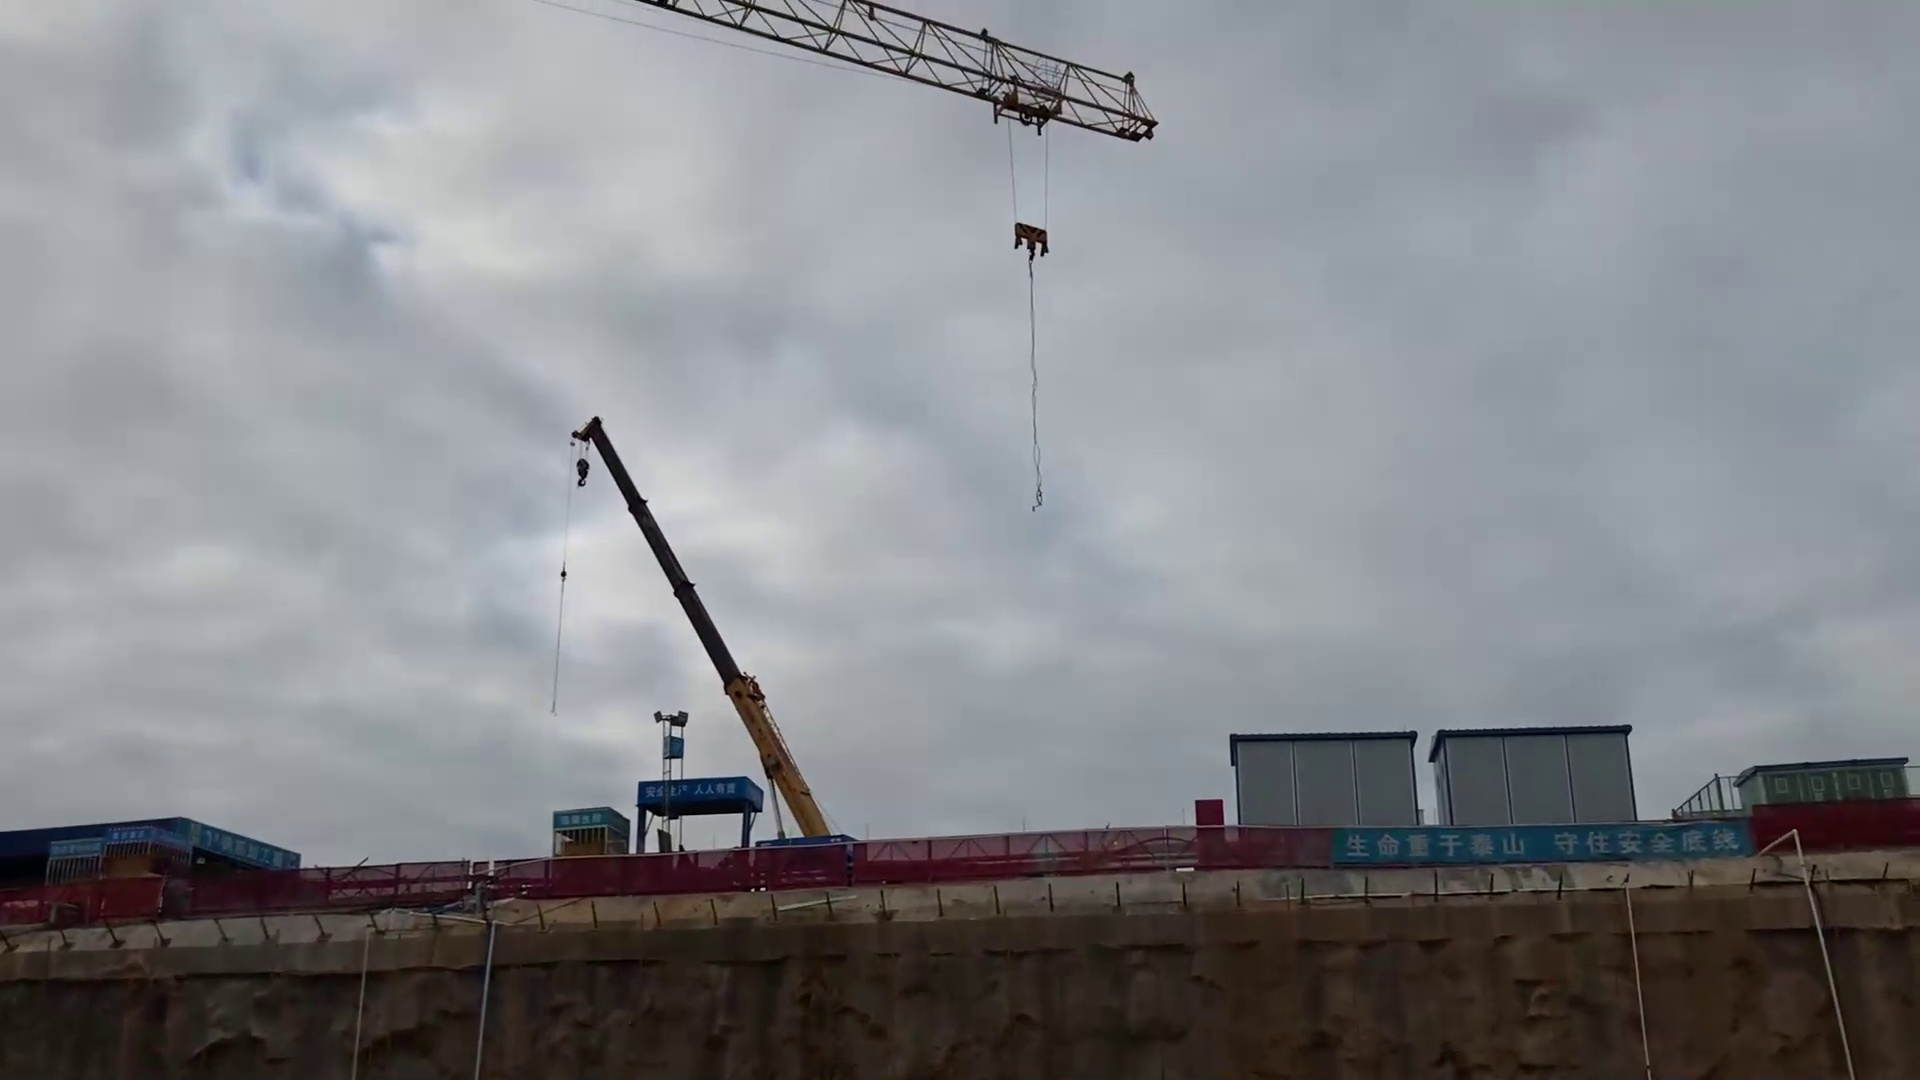hook: (1007, 208, 1055, 262)
slogan: (1332, 820, 1749, 872), (634, 774, 749, 807)
